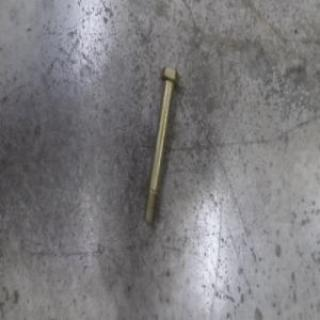Bolttrack_idkeyframe: (142, 64, 180, 225)
